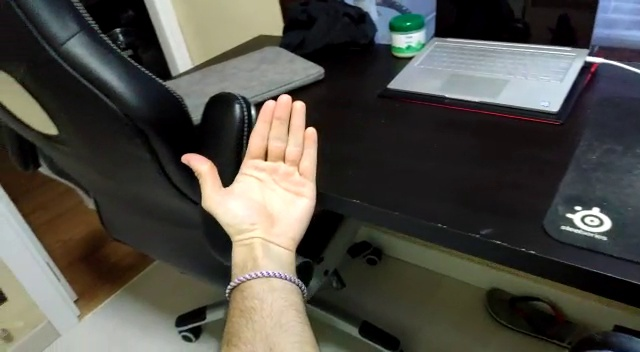Palm: (178, 91, 324, 244)
